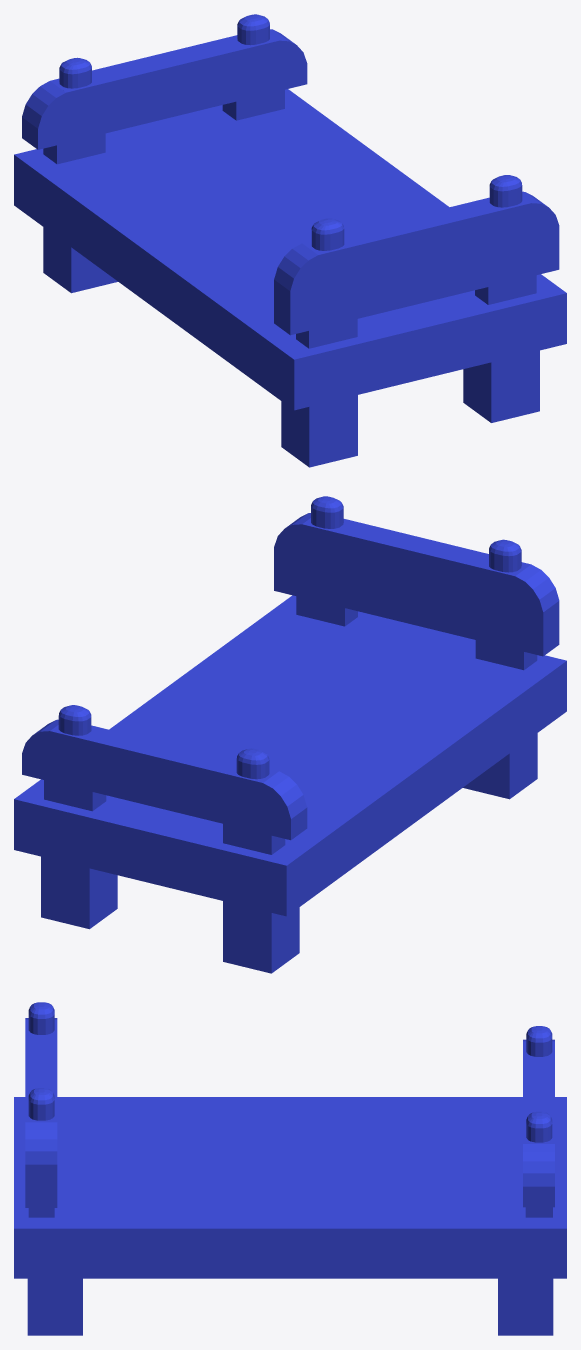
File: bed_m2.fbx
The picture shows the model from 3 angles, top to bottom: view 1: azimuth 30°, elevation 25°; view 2: azimuth 150°, elevation 25°; view 3: azimuth 270°, elevation 25°; orthographic projection.
Visible parts, largest first — view 1: Bed; view 2: Bed; view 3: Bed.
Part boxes in pixels (x1=…): Bed: x1=14, y1=14, x2=566, y2=467; Bed: x1=14, y1=496, x2=566, y2=973; Bed: x1=14, y1=1002, x2=566, y2=1335.
Bounding box in the file's own units: 1.95 × 3.46 × 1.6.
